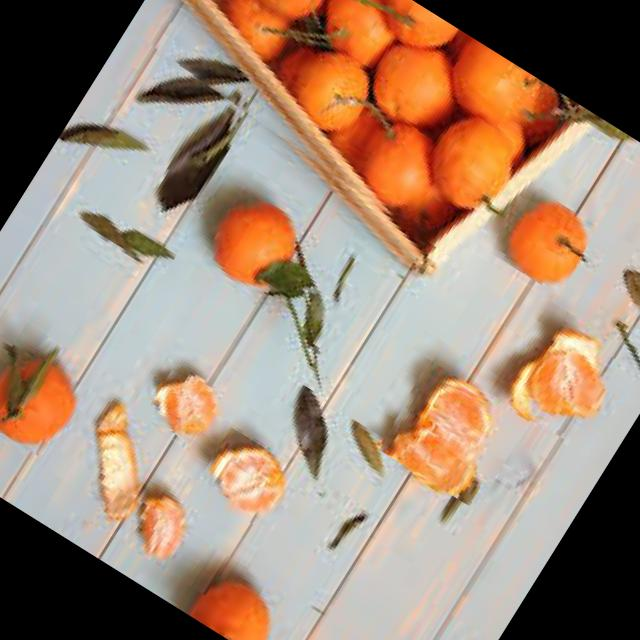Organic: (112, 0, 568, 267), (373, 362, 526, 508), (488, 300, 624, 442), (210, 195, 321, 303), (484, 188, 596, 295), (192, 427, 302, 532), (0, 352, 80, 456), (142, 364, 224, 445)
